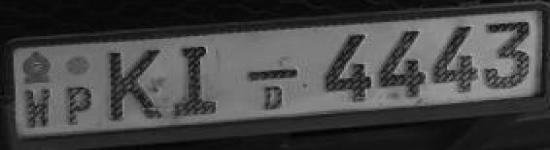-: (239, 64, 305, 83)
3: (481, 15, 534, 91)
4: (318, 30, 378, 106), (377, 26, 431, 102), (429, 22, 481, 98)
I: (169, 41, 226, 120)
K: (103, 46, 170, 124)
P: (58, 81, 97, 128)
W: (19, 86, 56, 131)
